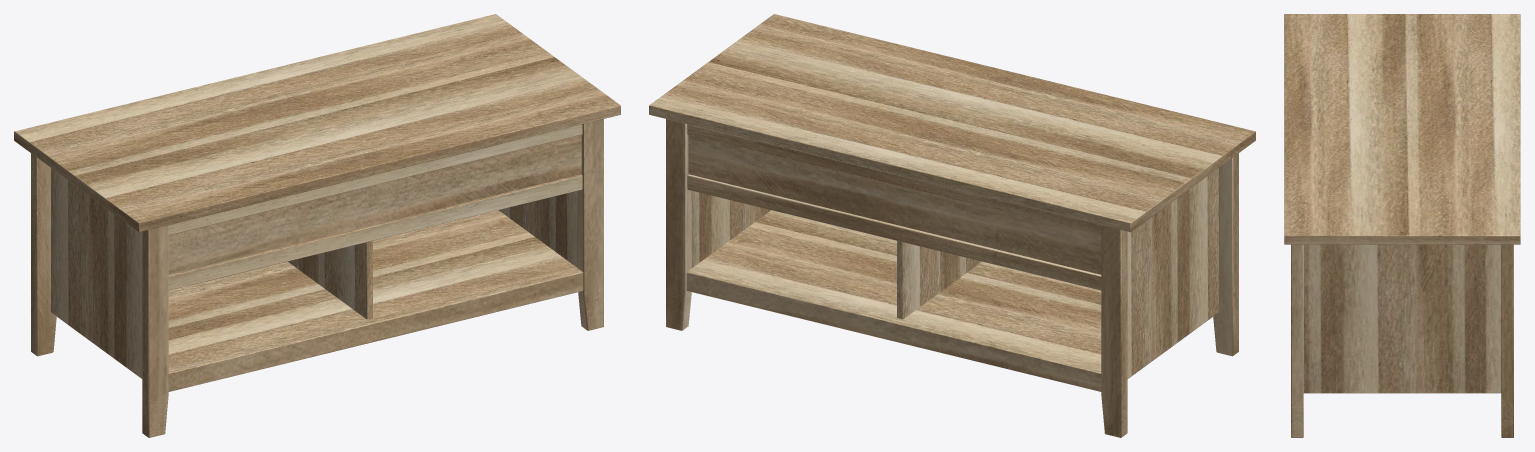
3 renders of one model, left to right at view 1: azimuth 30°, elevation 25°; view 2: azimuth 150°, elevation 25°; view 3: azimuth 270°, elevation 25°, orthographic. The views are drawn at different scales.
Visible parts, largest first — view 1: B07L85XV75; view 2: B07L85XV75; view 3: B07L85XV75.
Boxes of the visible parts, box(x1,y1,x2,y2) form: B07L85XV75: box(14, 14, 620, 437); B07L85XV75: box(649, 14, 1255, 437); B07L85XV75: box(1284, 14, 1520, 437).
Size of the model in its own units: 1.09 by 0.4801 by 0.4928.
Materials: 1 (1 with a texture image).
